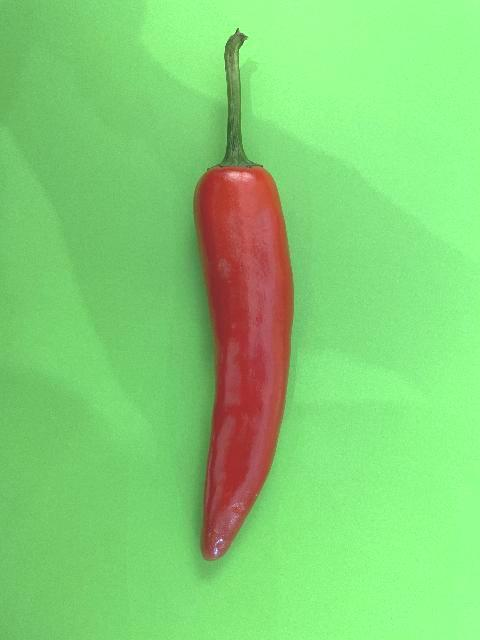chilli: (192, 25, 296, 563)
